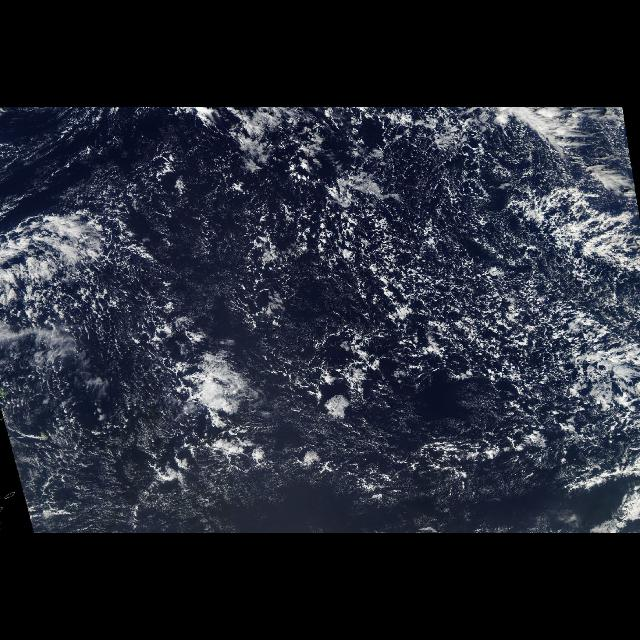Gravel: (105, 137, 631, 453)
Sugar: (19, 353, 165, 532)
